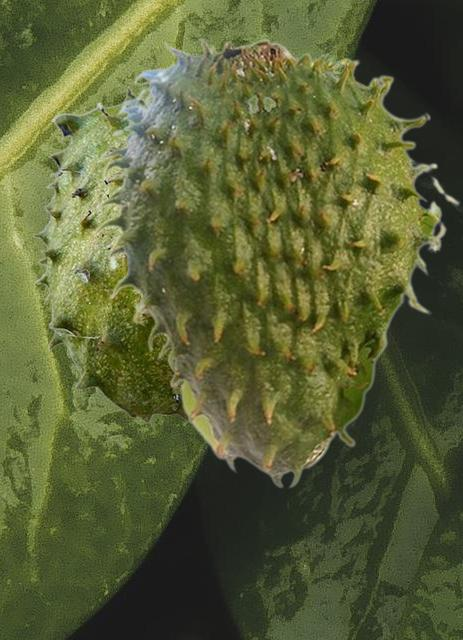guyabano: (92, 37, 460, 488), (32, 85, 187, 422)
